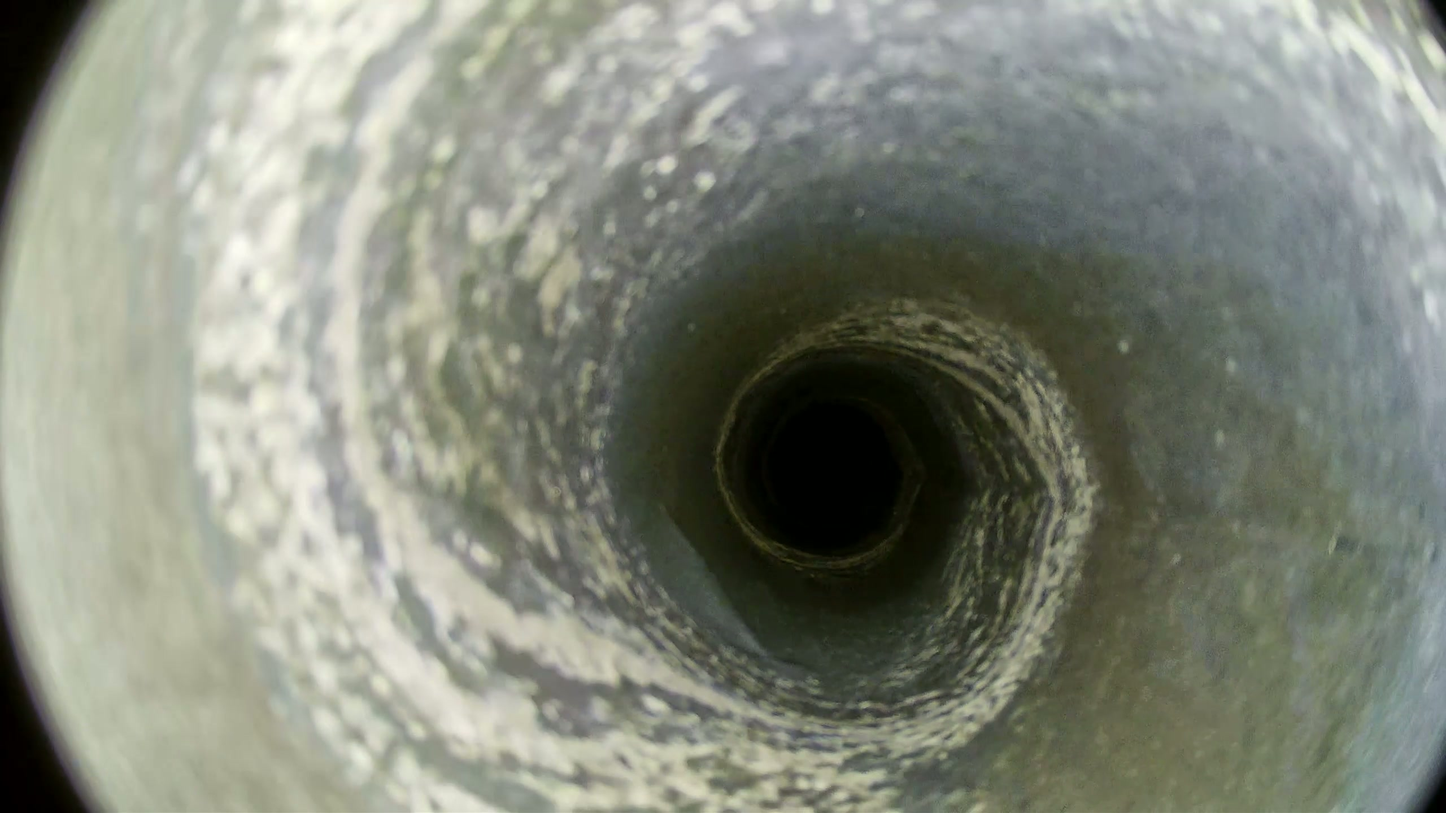hole: (770, 405, 891, 524)
